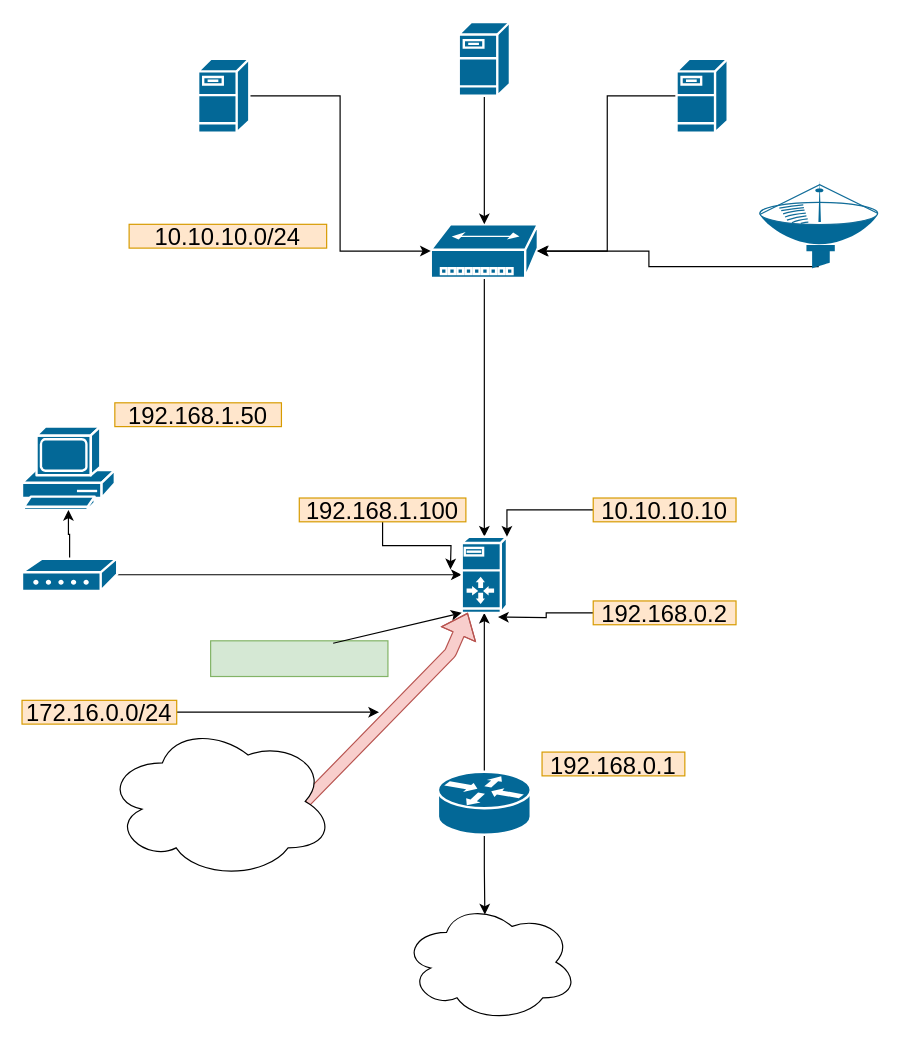
This 898x1042 diagram has some shape labels left out. Each missing label, with the centre of its shape:
"Internet" belongs at point (490, 961).
"PFSense" belongs at point (298, 658).
"VPN(OpenVPN)" belongs at point (219, 801).
